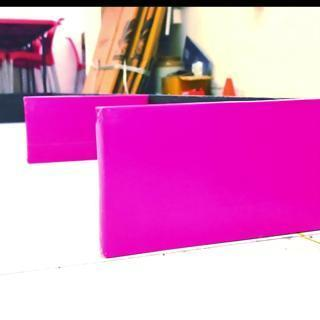xparking: (98, 105, 320, 248), (22, 94, 94, 164)
